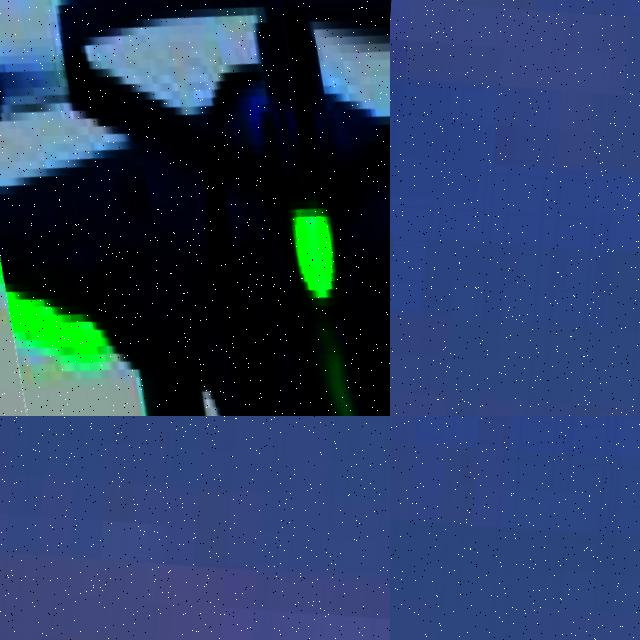drone: (0, 0, 390, 416)
